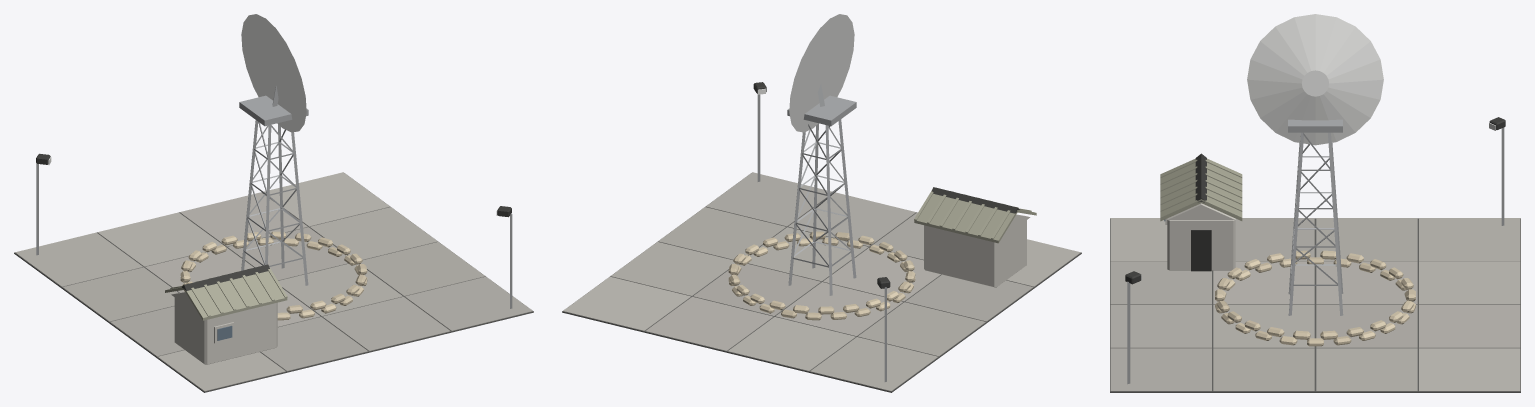
Rendered from b_radar.glb.
3 renders of one model, left to right at view 1: azimuth 30°, elevation 25°; view 2: azimuth 150°, elevation 25°; view 3: azimuth 270°, elevation 25°, orthographic. The views are drawn at different scales.
Visible parts, largest first — view 1: hull, turret; view 2: hull, turret; view 3: hull, turret.
Boxes of the visible parts, x1,y1,x2,y2 form: hull: (14, 95, 533, 392); turret: (241, 14, 306, 132); hull: (562, 82, 1081, 392); turret: (789, 14, 854, 132); hull: (1110, 117, 1520, 392); turret: (1247, 14, 1383, 145).
Bounding box in the file's own units: 18 × 13.93 × 18.
